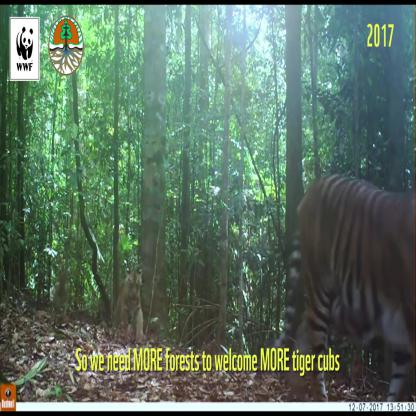Tiger: (109, 260, 145, 342)
